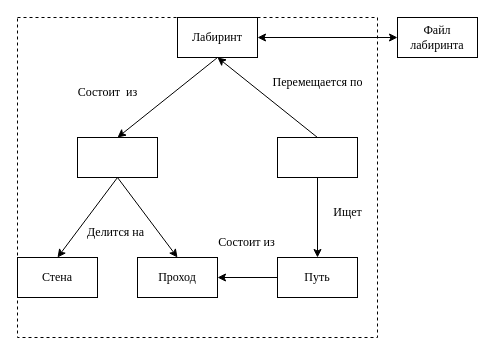
The diagram is 495 pixels wide and 355 high, and some of its shapes have lost their labels. The shapes that lost their labels are listed below. From the top down, each one's box as (x1, y1, x2, y2) in pixels, then its label:
(76, 136, 158, 178): Клетка
(276, 136, 358, 178): Персонаж
